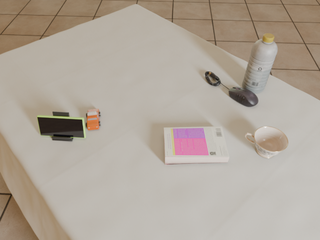book: (164, 127, 229, 165)
bottle: (242, 33, 277, 93)
cup: (245, 126, 288, 158)
mouse: (229, 87, 258, 107)
phone: (37, 115, 86, 138)
toy_car: (86, 109, 101, 130)
